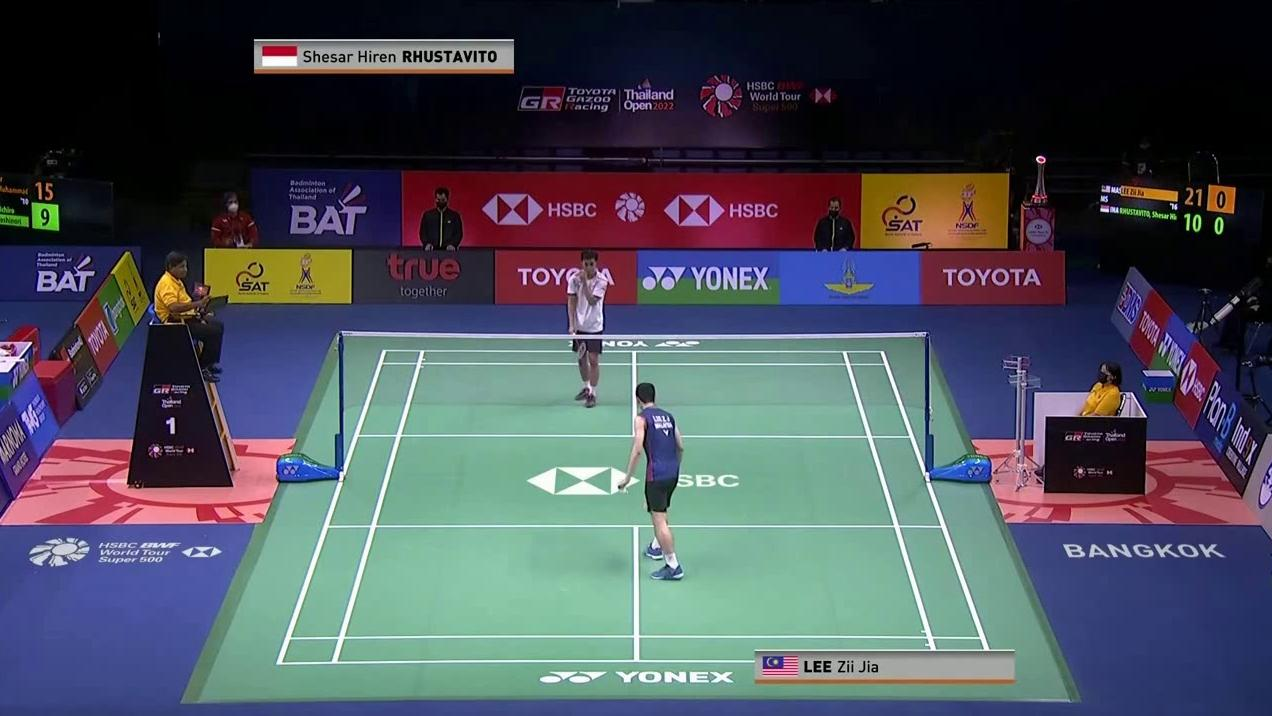racket: (570, 328, 586, 358)
shuttle: (618, 486, 630, 495)
